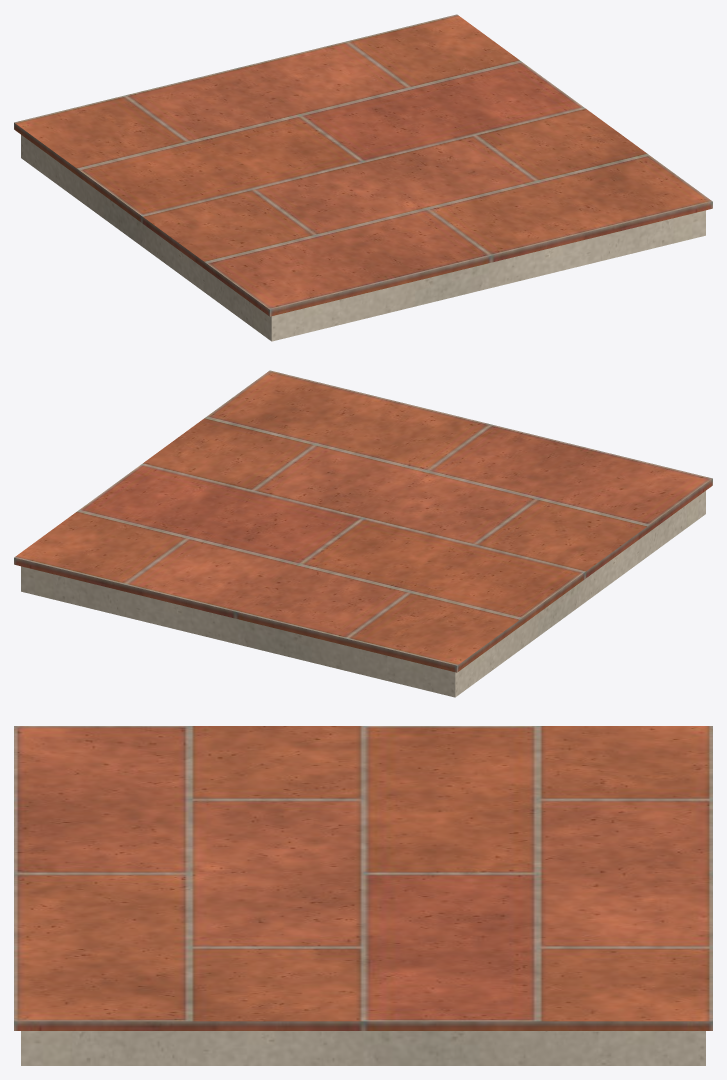
Rendered from floor_tile.glb.
3 views of the same model, one above another, from view 1: azimuth 30°, elevation 25°; view 2: azimuth 150°, elevation 25°; view 3: azimuth 270°, elevation 25° (orthographic). The views are drawn at different scales.
Parts seen in each view (by area): view 1: floor_tile_saltillo, floor_tile_render; view 2: floor_tile_saltillo, floor_tile_render; view 3: floor_tile_saltillo, floor_tile_render.
Part boxes in pixels (x1,y1,x2,y2): floor_tile_saltillo: (14,14,712,316); floor_tile_render: (21,135,705,341); floor_tile_saltillo: (14,370,712,672); floor_tile_render: (21,491,705,697); floor_tile_saltillo: (14,726,712,1030); floor_tile_render: (21,1031,705,1065).
Bounding box in the file's own units: 2 × 0.15 × 2.
2 materials, 2 textured.
